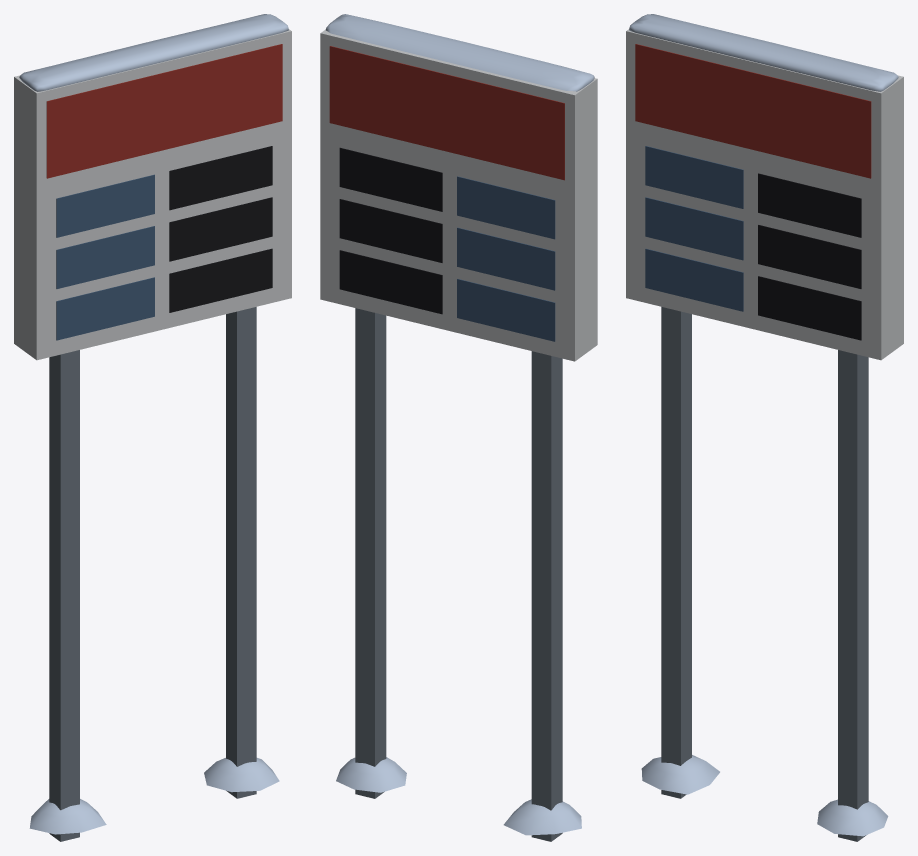
File: gas_sign.glb
3 renders of one model, left to right at view 1: azimuth 30°, elevation 25°; view 2: azimuth 150°, elevation 25°; view 3: azimuth 330°, elevation 25°, orthographic.
Visible parts, largest first — view 1: Prop; view 2: Prop; view 3: Prop.
Boxes of the visible parts, x1=… form: Prop: x1=14, y1=14, x2=291, y2=841; Prop: x1=320, y1=14, x2=597, y2=841; Prop: x1=626, y1=14, x2=903, y2=841.
Bounding box in the file's own units: 2.6 × 7.48 × 0.7055.
